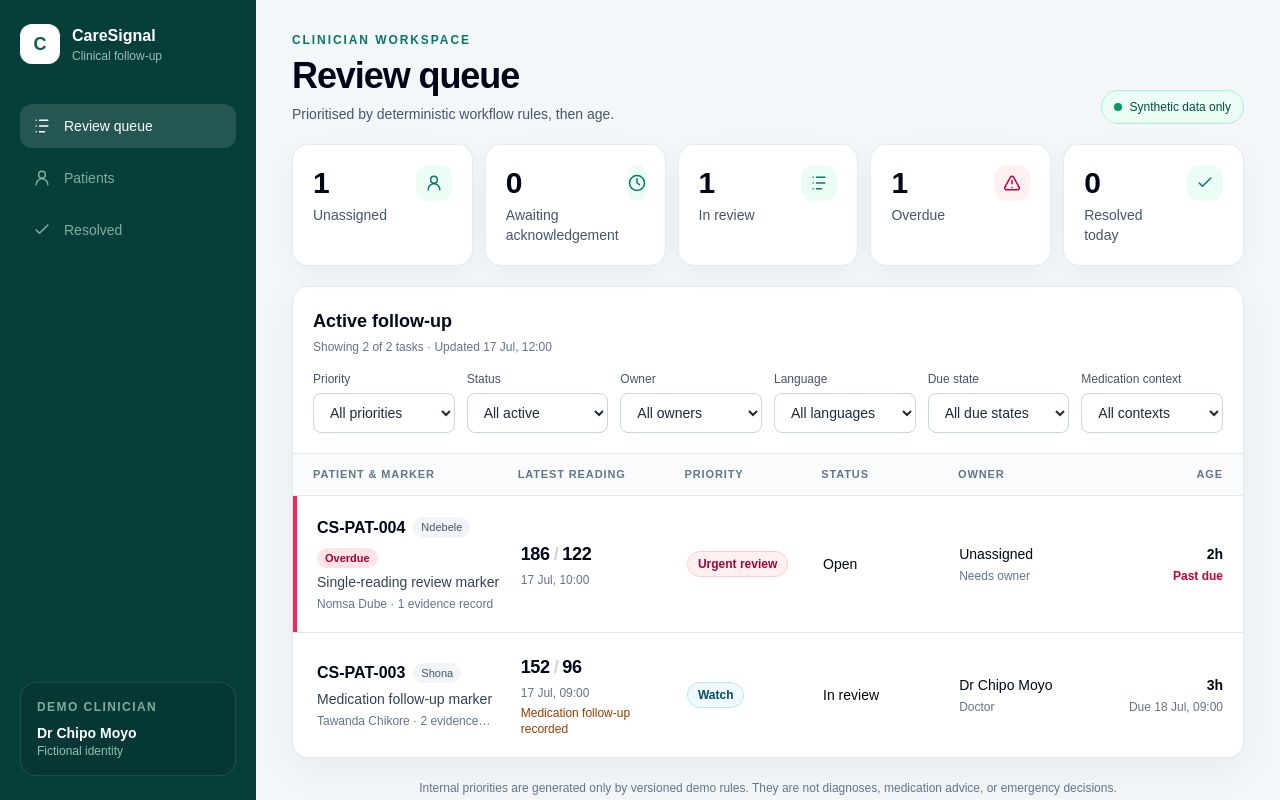
Test: ClinicianDashboardPage › filters the queue by priority and clears the active filter
expect the text "CS-PAT-004" is shown: met, box [317, 516, 405, 540]
Select "Watch" in the dropdown labelled "Priority" at (384, 413), box [313, 393, 455, 433]
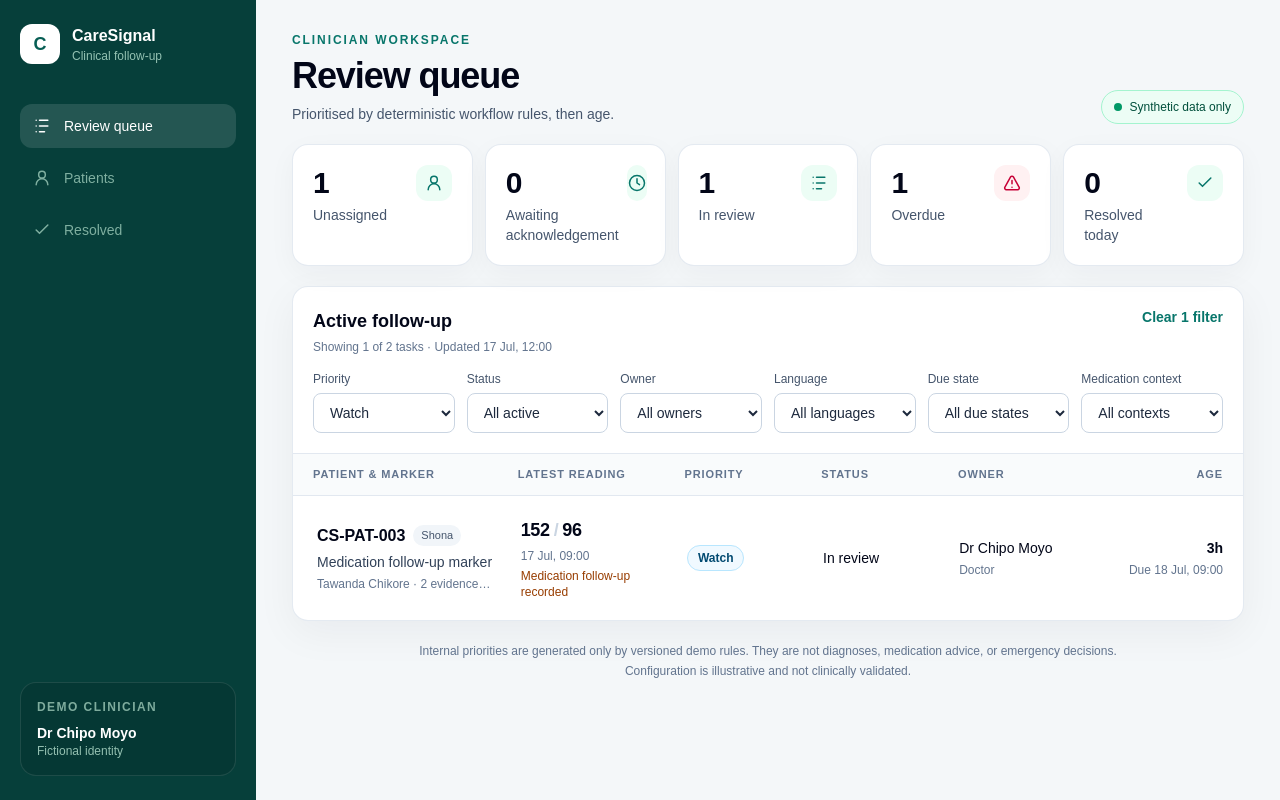
expect the text "CS-PAT-003" is shown: met, box [317, 524, 405, 548]
expect the link "CS-PAT-004" is gone: met
expect the button "Clear 1 filter" is shown: met
Click the button "Clear 1 filter" at (1182, 317), box [1142, 307, 1223, 327]
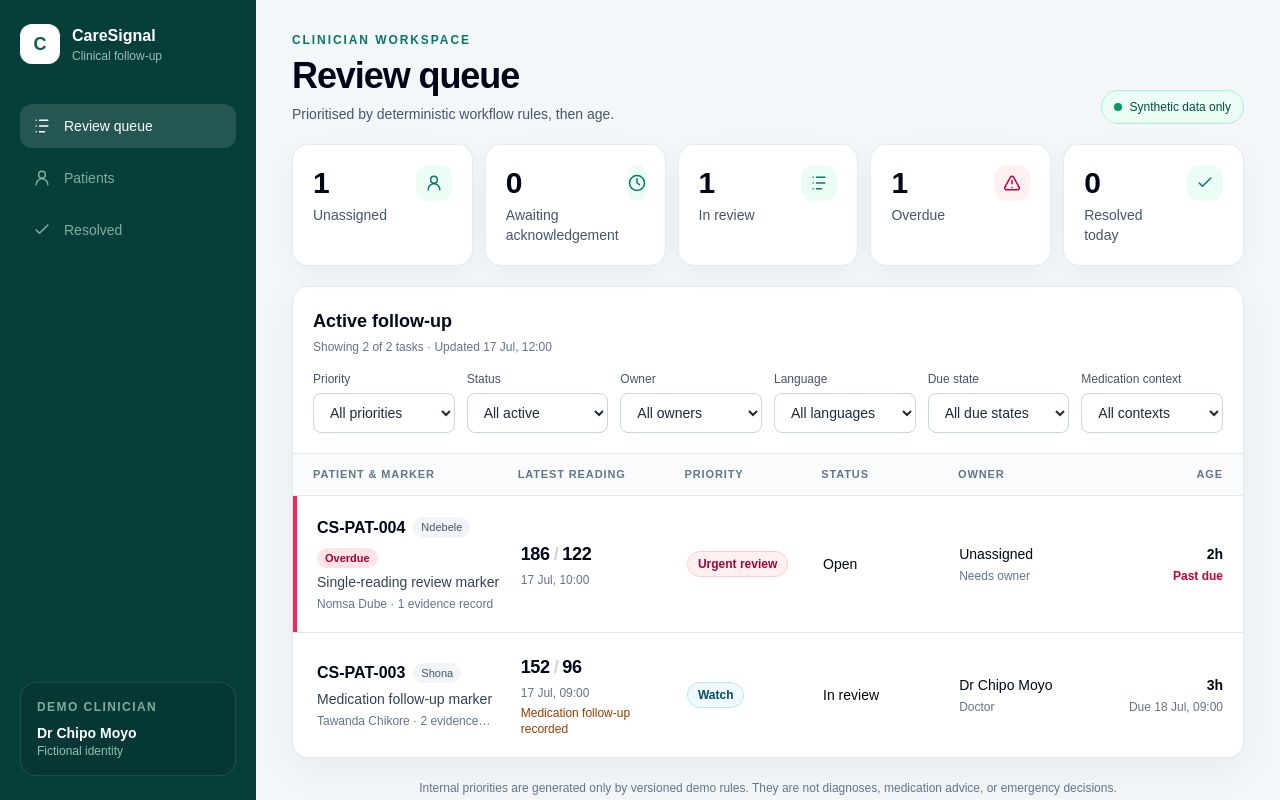
expect the text "CS-PAT-004" is shown: met, box [317, 516, 405, 540]
